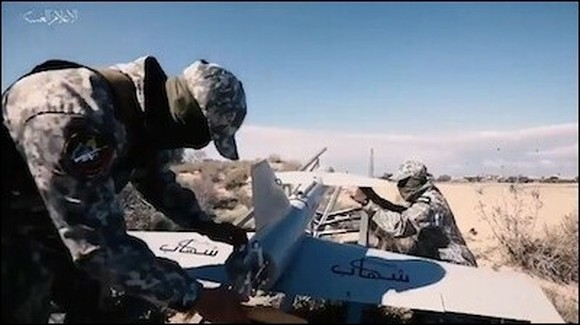maybay_khongnguoilai: (111, 160, 555, 324)
